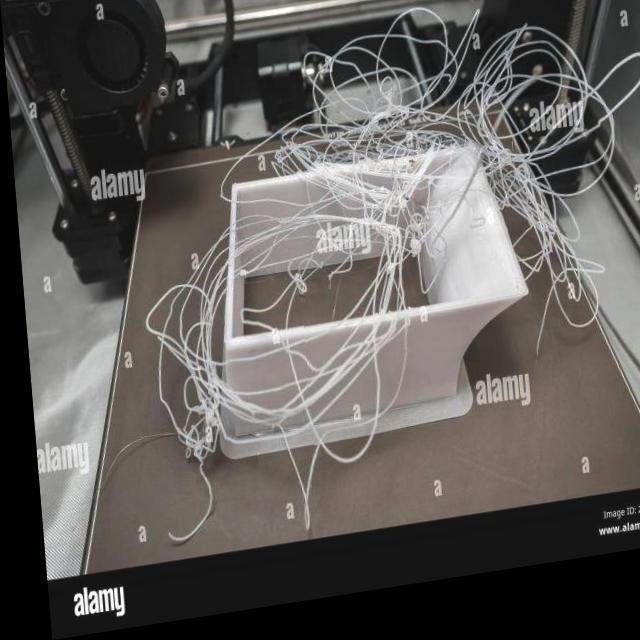spaghetti: (292, 8, 632, 199), (125, 277, 308, 500), (290, 146, 468, 334), (485, 140, 610, 405)
